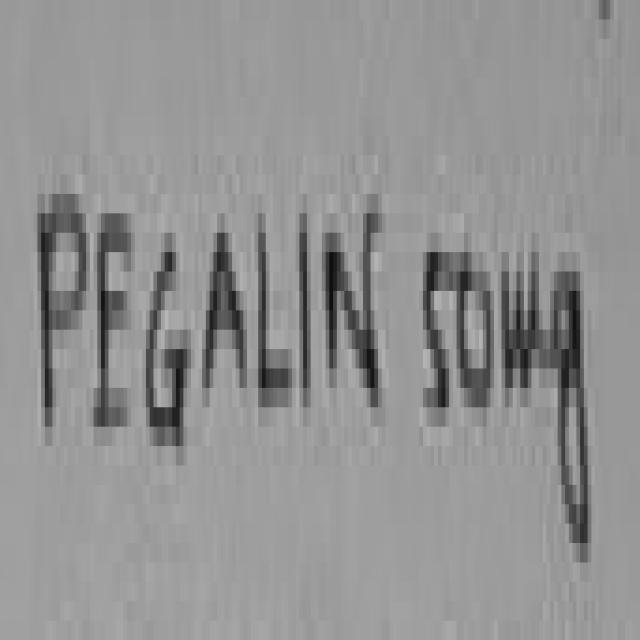0: (460, 272, 494, 407)
5: (427, 252, 457, 398)
A: (206, 233, 247, 388)
E: (97, 213, 131, 417)
G: (146, 252, 187, 446)
I: (303, 213, 311, 407)
L: (262, 233, 292, 398)
N: (326, 213, 382, 407)
P: (41, 194, 86, 417)
g: (557, 272, 591, 543)
m: (505, 252, 546, 388)
